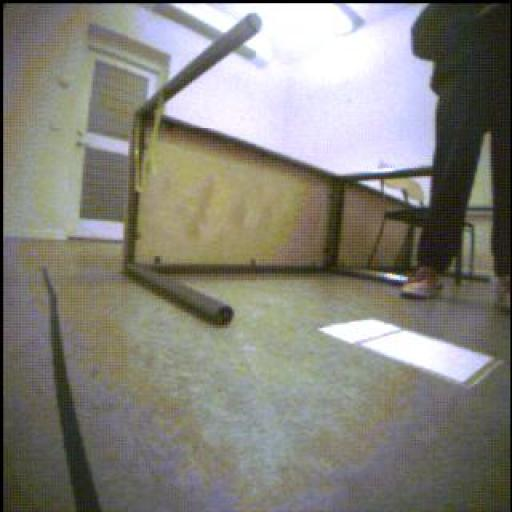Pad: (321, 320, 502, 387), (321, 319, 403, 345)
